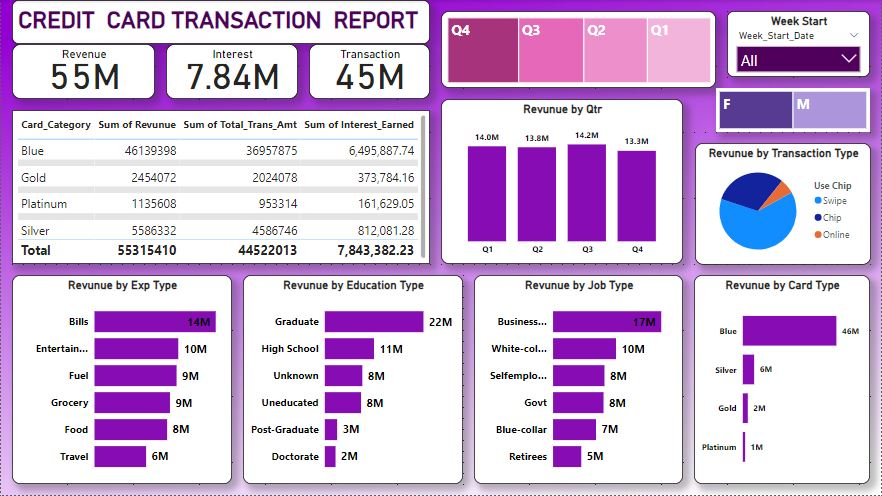

The page's visual inventory and layout, read from the dashboard file:
{"tool":"powerbi","page":{"name":"cc Transaction","canvas":[1280,720],"ordinal":1},"visuals":[{"type":"textbox","box":[16,0,608,64],"z":0},{"type":"clusteredColumnChart","title":"Revunue by Qtr","fields":{"Category":["ccdb credit_card_detail.Qtr"],"Y":["Sum(ccdb credit_card_detail.Revunue)"]},"box":[640,144,352,240],"z":1000},{"type":"barChart","title":"Revunue by Exp Type","fields":{"Y":["Sum(ccdb credit_card_detail.Revunue)"],"Category":["ccdb credit_card_detail.Exp Type"]},"box":[16,400,320,304],"z":2000},{"type":"barChart","title":"Revunue by Education Type","fields":{"Y":["Sum(ccdb credit_card_detail.Revunue)"],"Category":["ccdb customer_detail.Education_Level"]},"box":[352,400,320,304],"z":3000},{"type":"barChart","title":"Revunue by Job Type","fields":{"Y":["Sum(ccdb credit_card_detail.Revunue)"],"Category":["ccdb customer_detail.Customer_Job"]},"box":[688,400,304,304],"z":4000},{"type":"barChart","title":"Revunue by Card Type","fields":{"Y":["Sum(ccdb credit_card_detail.Revunue)"],"Category":["ccdb credit_card_detail.Card_Category"]},"box":[1008,400,256,304],"z":5000},{"type":"pieChart","title":"Revunue by Transaction Type","fields":{"Category":["ccdb credit_card_detail.Use Chip"],"Y":["Sum(ccdb credit_card_detail.Revunue)"]},"box":[1009,208,256,177],"z":6000},{"type":"tableEx","fields":{"Values":["ccdb credit_card_detail.Card_Category","Sum(ccdb credit_card_detail.Revunue)","Sum(ccdb credit_card_detail.Total_Trans_Amt)","Sum(ccdb credit_card_detail.Interest_Earned)"]},"box":[16,160,608,224],"z":7000},{"type":"card","title":"Revenue","fields":{"Values":["Sum(ccdb credit_card_detail.Revunue)"]},"box":[16,64,208,80],"z":8000},{"type":"card","title":"Interest","fields":{"Values":["Sum(ccdb credit_card_detail.Interest_Earned)"]},"box":[240,64,192,80],"z":9000},{"type":"card","title":"Transaction","fields":{"Values":["Sum(ccdb credit_card_detail.Total_Trans_Amt)"]},"box":[448,64,176,80],"z":10000},{"type":"treemap","fields":{"Group":["ccdb credit_card_detail.Qtr"],"Values":["Avg(ccdb customer_detail.Client_Num)"]},"box":[640,16,400,112],"z":11000},{"type":"slicer","title":"Week Start","fields":{"Values":["ccdb credit_card_detail.Week_Start_Date"]},"box":[1056,16,208,96],"z":12000},{"type":"treemap","fields":{"Group":["ccdb customer_detail.Gender"],"Values":["Avg(ccdb customer_detail.Client_Num)"]},"box":[1040,128,224,64],"z":13000}]}

Visuals, with their boxes in screenshot pixels (x1, y1, x2, y2), scaled from the page's 1280x720 canvas onto the 882x496 screenshot:
textbox: 11/0/430/44
"Revunue by Qtr" clusteredColumnChart: 441/99/684/265
"Revunue by Exp Type" barChart: 11/276/232/485
"Revunue by Education Type" barChart: 243/276/463/485
"Revunue by Job Type" barChart: 474/276/684/485
"Revunue by Card Type" barChart: 695/276/871/485
"Revunue by Transaction Type" pieChart: 695/143/872/265
tableEx - ccdb credit_card_detail.Card_Category x Sum(ccdb credit_card_detail.Revunue): 11/110/430/265
"Revenue" card: 11/44/154/99
"Interest" card: 165/44/298/99
"Transaction" card: 309/44/430/99
treemap - ccdb credit_card_detail.Qtr x Avg(ccdb customer_detail.Client_Num): 441/11/717/88
"Week Start" slicer: 728/11/871/77
treemap - ccdb customer_detail.Gender x Avg(ccdb customer_detail.Client_Num): 717/88/871/132
